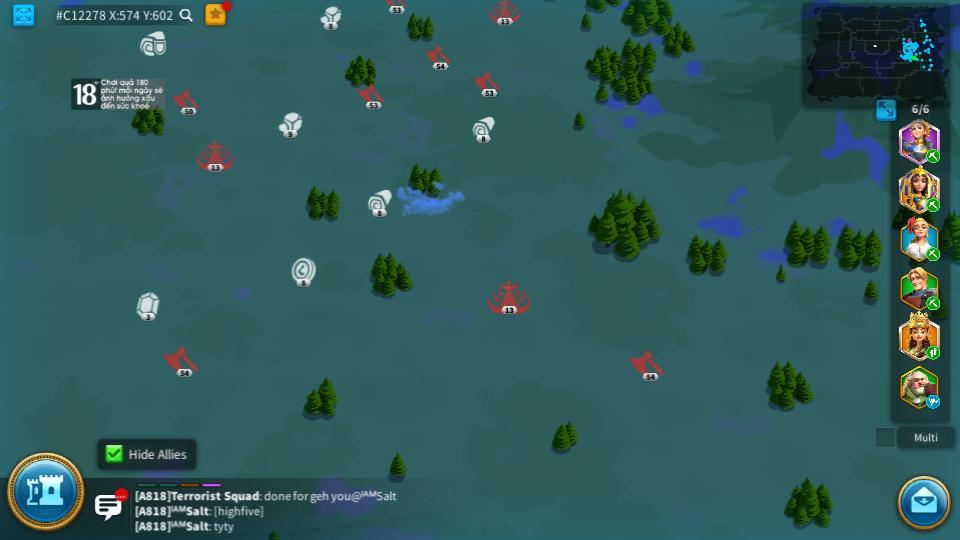gem-z-out: (135, 292, 161, 319)
march_farming: (925, 197, 941, 212), (925, 297, 941, 310)
march_idle: (925, 396, 942, 408)
march_marching: (925, 150, 942, 162), (925, 347, 941, 359)
